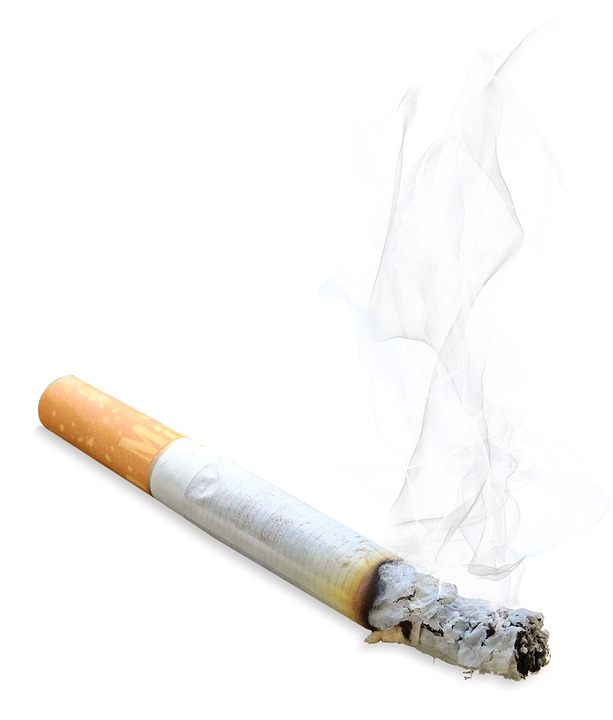cigarette: (28, 327, 577, 704)
